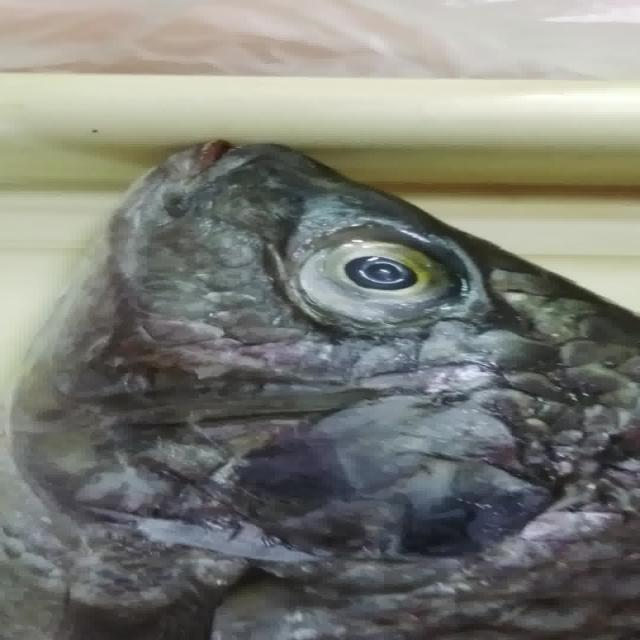Non-Fresh: (243, 202, 502, 362)
